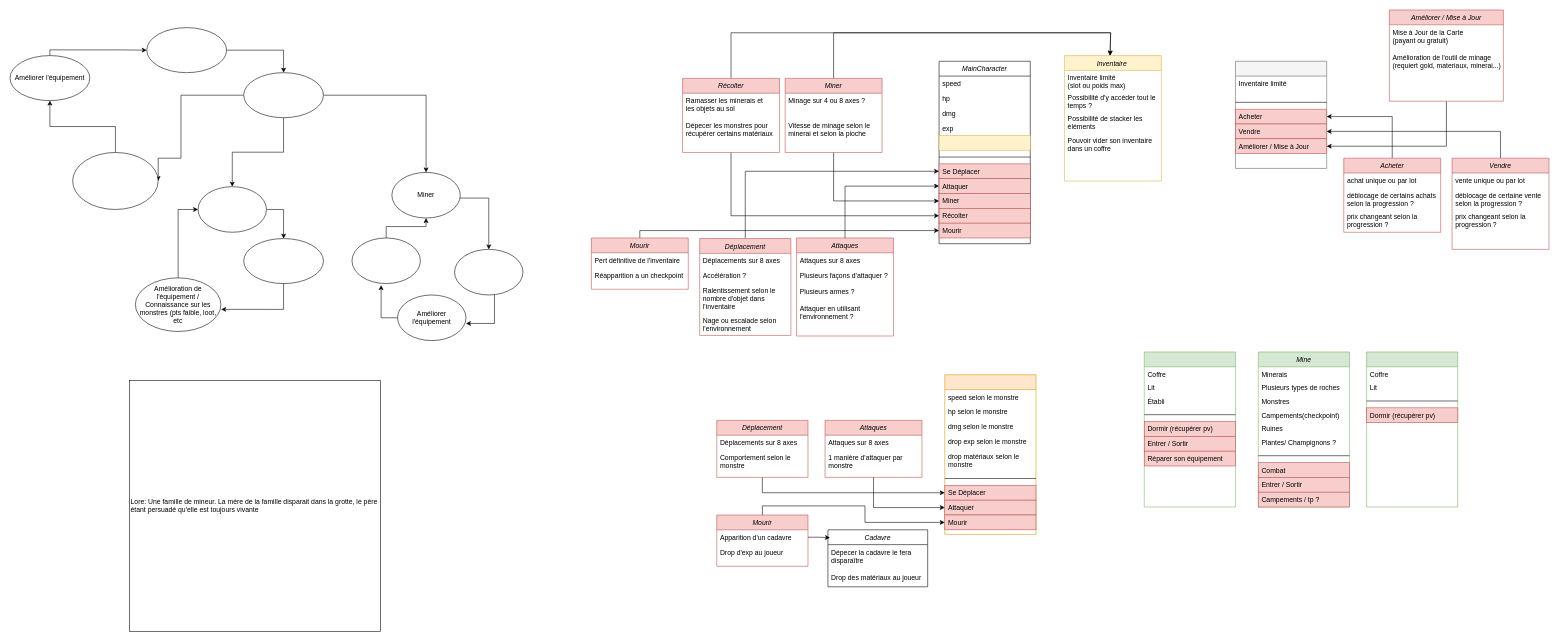
The diagram is 1559 pixels wide and 641 high, and some of its shapes have lost their labels. Here are the shapes that lost their labels. From the top down, the box of each, then its label:
(146, 27, 227, 73): Débloque de nouvelle zone
(243, 72, 323, 118): Exploration
(1235, 61, 1327, 168): Merchant
(939, 135, 1030, 150): gold
(72, 152, 158, 209): Retour au camp(réparations de l'équipement, se soigner, mettre a jour la carte)
(198, 186, 266, 232): Tuer des Monstres
(243, 238, 323, 284): Vente des Ressource/ Mise à Jour du Bestiaire
(351, 237, 420, 284): Pouvoir miner de nouveau block
(454, 249, 523, 295): Revente des Minerais
(1144, 351, 1235, 507): Maison
(1366, 351, 1458, 507): Campement
(944, 374, 1036, 534): Monsters
